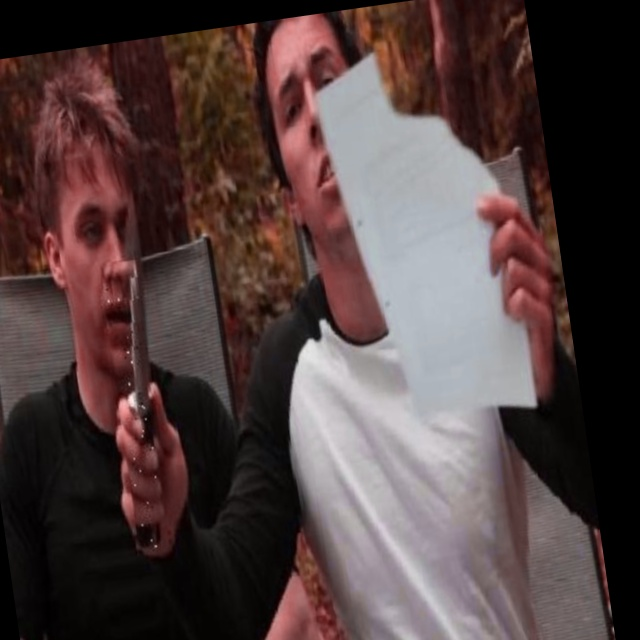Sharp-Object: (100, 258, 172, 549)
